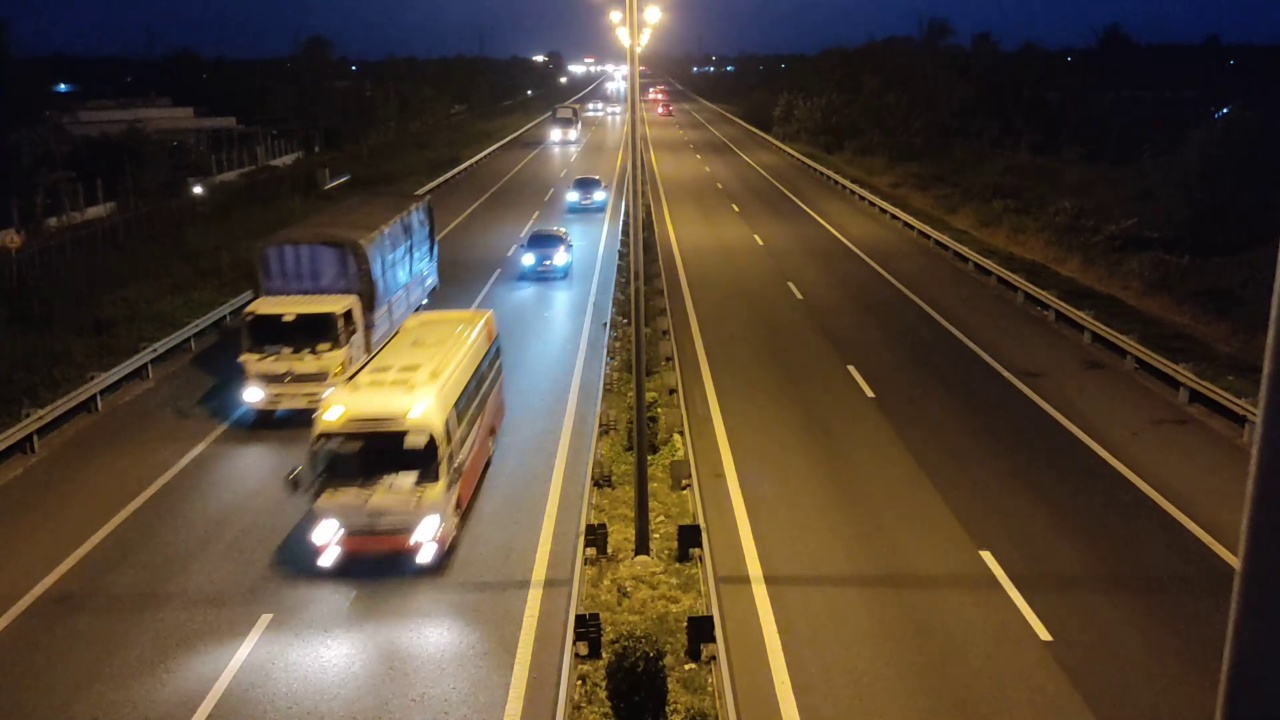bus: (296, 296, 510, 571)
car: (517, 227, 574, 280), (565, 175, 607, 210)
truck: (235, 190, 440, 425)
